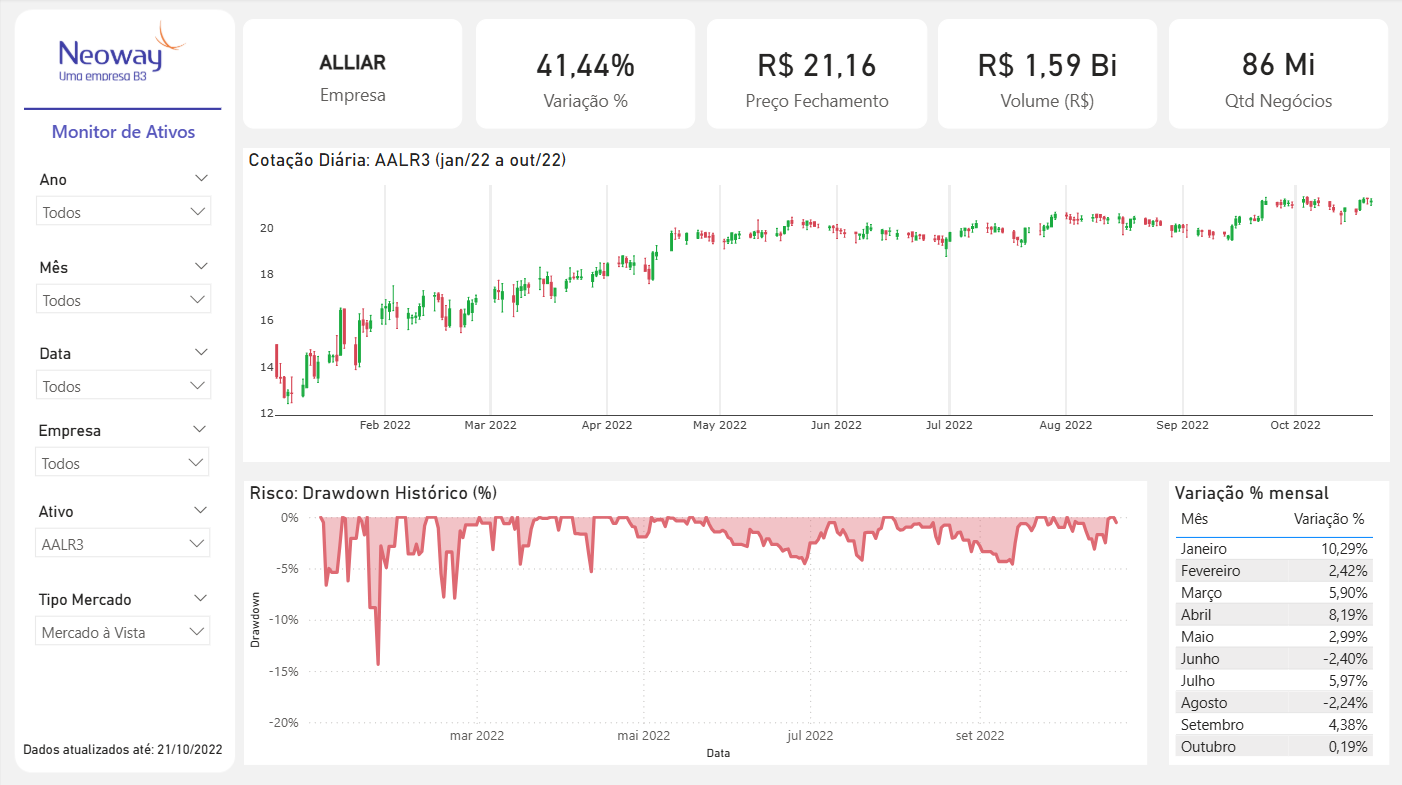

What the dashboard file says about the page in this screenshot:
{"tool":"powerbi","page":{"name":"Ativos","canvas":[1280,720],"ordinal":0},"visuals":[{"type":"slicer","title":"Ano","fields":{"Values":["dCalendario.Ano"]},"box":[22.4,152.8,180,70],"z":0},{"type":"slicer","title":"Mês","fields":{"Values":["dCalendario.MesNome"]},"box":[22.4,232.2,179.9,70],"z":1000},{"type":"slicer","fields":{"Values":["dCalendario.Date"]},"box":[22.4,311.4,179.9,70],"z":2000},{"type":"slicer","fields":{"Values":["dEmpresas.cd_acao"]},"box":[22.2,454.9,180,70],"z":3000},{"type":"image","box":[52.4,14.7,119.1,66.3],"z":4000},{"type":"shape","box":[22,95.2,180,12.5],"z":5000},{"type":"textbox","box":[16.8,105.6,192,46.6],"z":6000},{"type":"card","fields":{"Values":["_Medidas.Variação %"]},"box":[434.3,19.2,199.8,100.4],"z":7000},{"type":"candlestick95C27C147643B5E840B1D29AC39783F7","fields":{"col_0":["dCalendario.Date"],"col_1":["Sum(fCotacoes.vl_abertura)"],"col_3":["Sum(fCotacoes.vl_minimo)"],"col_4":["Sum(fCotacoes.vl_fechamento)"],"col_2":["Sum(fCotacoes.vl_maximo)"],"col_14":["_Medidas.Variacao%"]},"box":[221.7,136.8,1045.5,286.5],"z":8000},{"type":"card","fields":{"Values":["_Medidas.Preço Fechamento (Período)"]},"box":[645,19.2,200.7,100.4],"z":9000},{"type":"card","fields":{"Values":["Sum(fCotacoes.vl_volume)"]},"box":[855.8,19.2,199.8,100.4],"z":10000},{"type":"card","fields":{"Values":["_Dimensoes.Ultima_Atualizacao"]},"box":[15.9,673.3,193,26.1],"z":11000},{"type":"card","fields":{"Values":["Sum(fCotacoes.qt_tit_neg)"]},"box":[1066.7,19.4,200.1,100],"z":12000},{"type":"slicer","fields":{"Values":["fCotacoes.tipo_mercado_desc"]},"box":[22.2,535.6,180,70],"z":13000},{"type":"tableEx","title":"Variação % mensal","fields":{"Values":["dCalendario.MesNome","_Medidas.Variação %"]},"box":[1066.5,440.7,200.7,259.1],"z":14000},{"type":"areaChart","title":"Risco: Drawdown Histórico (%)","fields":{"Category":["dCalendario.Date"],"Y":["_Medidas.Drawdown % Ajustado"]},"box":[222.8,440.3,823.4,259.1],"z":15000},{"type":"card","fields":{"Values":["Min(dEmpresas.nm_empresa)"]},"box":[221.5,19.4,200.1,100],"z":16000},{"type":"slicer","fields":{"Values":["dEmpresas.nm_empresa"]},"box":[22.2,381.3,179.1,69.2],"z":17000},{"type":"actionButton","box":[30.8,614.1,43.5,39.9],"z":17001},{"type":"actionButton","box":[149.5,614.1,40.8,39.9],"z":17002}]}

Visuals, with their boxes in screenshot pixels (x1, y1, x2, y2), scaled from the page's 1280x720 canvas onto the 1402x785 screenshot:
"Ano" slicer: <box>25,167,222,243</box>
"Mês" slicer: <box>25,253,222,329</box>
slicer - dCalendario.Date: <box>25,340,222,416</box>
slicer - dEmpresas.cd_acao: <box>24,496,221,572</box>
image: <box>57,16,188,88</box>
shape: <box>24,104,221,117</box>
textbox: <box>18,115,229,166</box>
card - _Medidas.Variação %: <box>476,21,695,130</box>
candlestick95C27C147643B5E840B1D29AC39783F7 - dCalendario.Date x Sum(fCotacoes.vl_abertura): <box>243,149,1388,462</box>
card - _Medidas.Preço Fechamento (Período): <box>706,21,926,130</box>
card - Sum(fCotacoes.vl_volume): <box>937,21,1156,130</box>
card - _Dimensoes.Ultima_Atualizacao: <box>17,734,229,763</box>
card - Sum(fCotacoes.qt_tit_neg): <box>1168,21,1388,130</box>
slicer - fCotacoes.tipo_mercado_desc: <box>24,584,221,660</box>
"Variação % mensal" tableEx: <box>1168,480,1388,763</box>
"Risco: Drawdown Histórico (%)" areaChart: <box>244,480,1146,763</box>
card - Min(dEmpresas.nm_empresa): <box>243,21,462,130</box>
slicer - dEmpresas.nm_empresa: <box>24,416,220,491</box>
actionButton: <box>34,670,81,713</box>
actionButton: <box>164,670,208,713</box>
